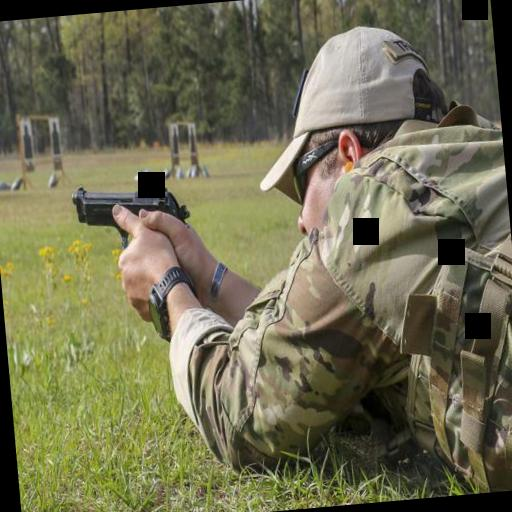Handgun: (66, 169, 192, 268)
